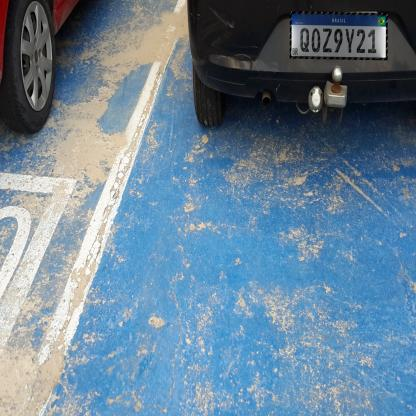PlacaM: (290, 12, 388, 60)
